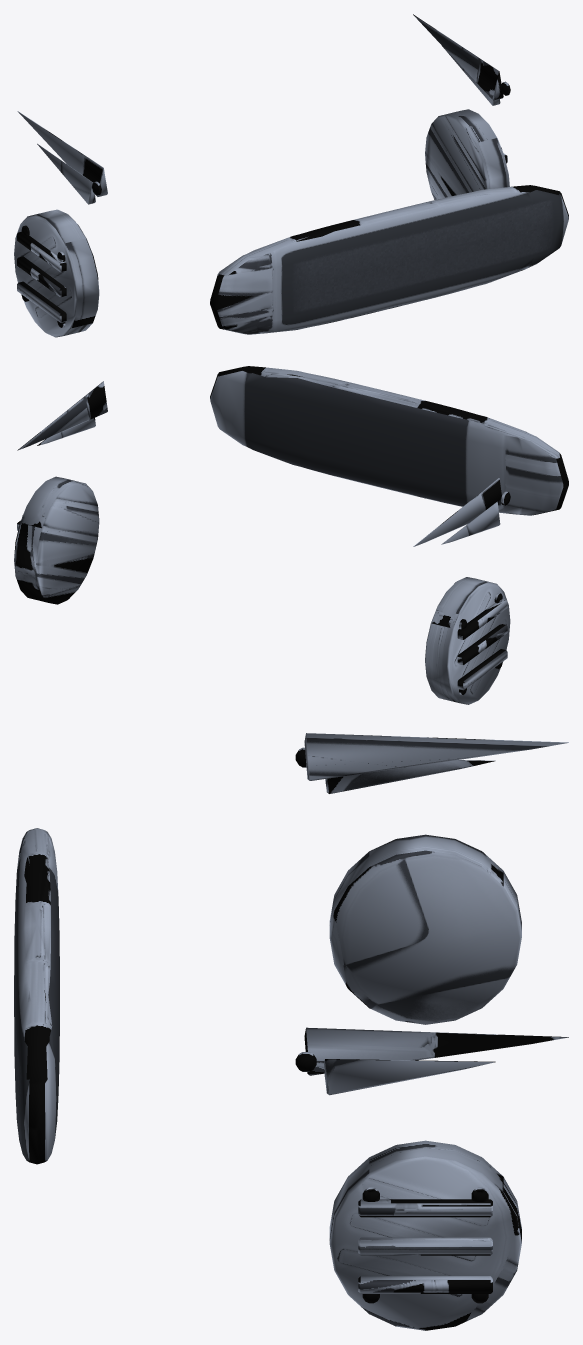
The model's file is Estela_Casco_Acero.fbx.
3 views of the same model, one above another, from view 1: azimuth 30°, elevation 25°; view 2: azimuth 150°, elevation 25°; view 3: azimuth 270°, elevation 25° (orthographic). The views are drawn at different scales.
Visible parts, largest first — view 1: Estela_Casco_Acero; view 2: Estela_Casco_Acero; view 3: Estela_Casco_Acero.
Part boxes in pixels (x1=…): Estela_Casco_Acero: x1=14, y1=14, x2=568, y2=337; Estela_Casco_Acero: x1=14, y1=366, x2=568, y2=704; Estela_Casco_Acero: x1=14, y1=733, x2=568, y2=1330.
Bounding box in the file's own units: 1.47 × 0.5928 × 1.03.
